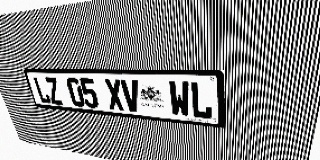0: (65, 78, 86, 107)
5: (79, 78, 100, 109)
L: (190, 81, 213, 120), (32, 77, 52, 104)
V: (120, 79, 142, 113)
W: (168, 81, 191, 117)
X: (104, 79, 125, 111)
Z: (44, 77, 63, 105)
